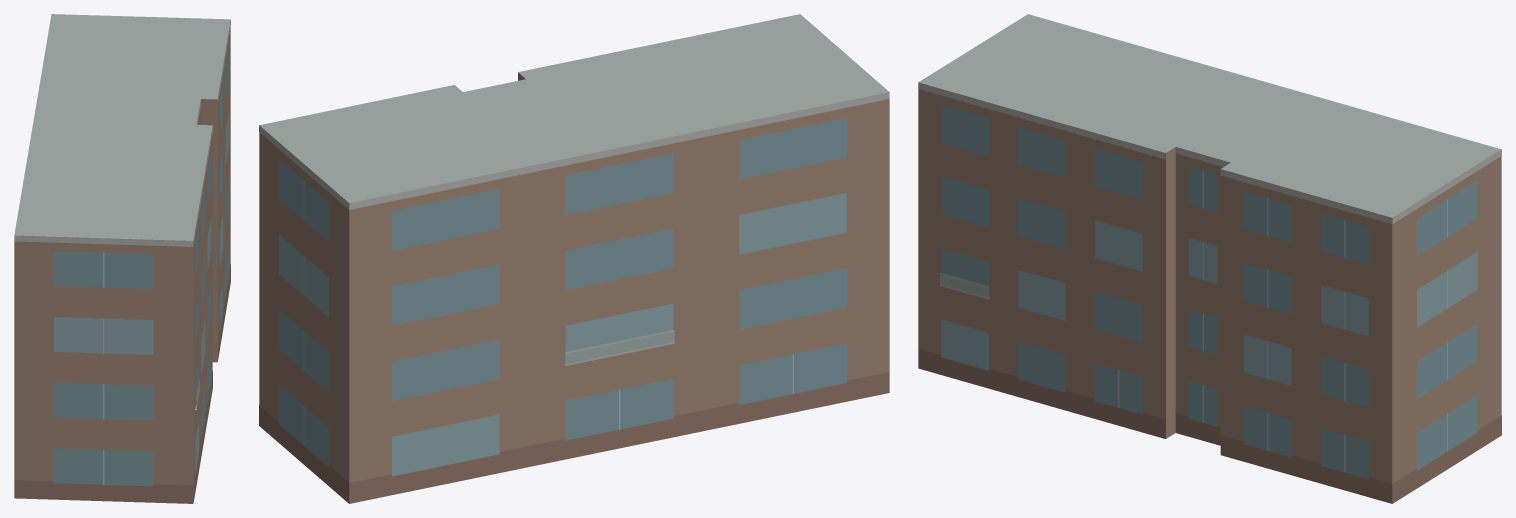
File: survey-upis-32931057.glb
3 views of the same model, side by side, from view 1: azimuth 30°, elevation 25°; view 2: azimuth 150°, elevation 25°; view 3: azimuth 270°, elevation 25° (orthographic). The views are drawn at different scales.
Parts seen in each view (by area): view 1: survey-upis-32931057.tmp; view 2: survey-upis-32931057.tmp; view 3: survey-upis-32931057.tmp.
Part boxes in pixels (x1,y1,x2,y2): survey-upis-32931057.tmp: (14, 14, 230, 503); survey-upis-32931057.tmp: (259, 14, 889, 503); survey-upis-32931057.tmp: (918, 14, 1501, 503).
Size of the model in its own units: 16.51 by 10.8 by 19.97.
